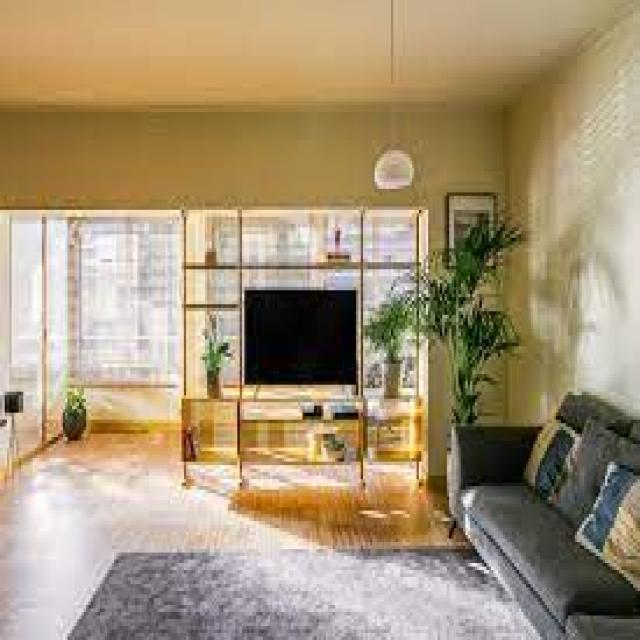Lamp: (375, 3, 420, 200)
Sofa: (449, 388, 640, 640)
